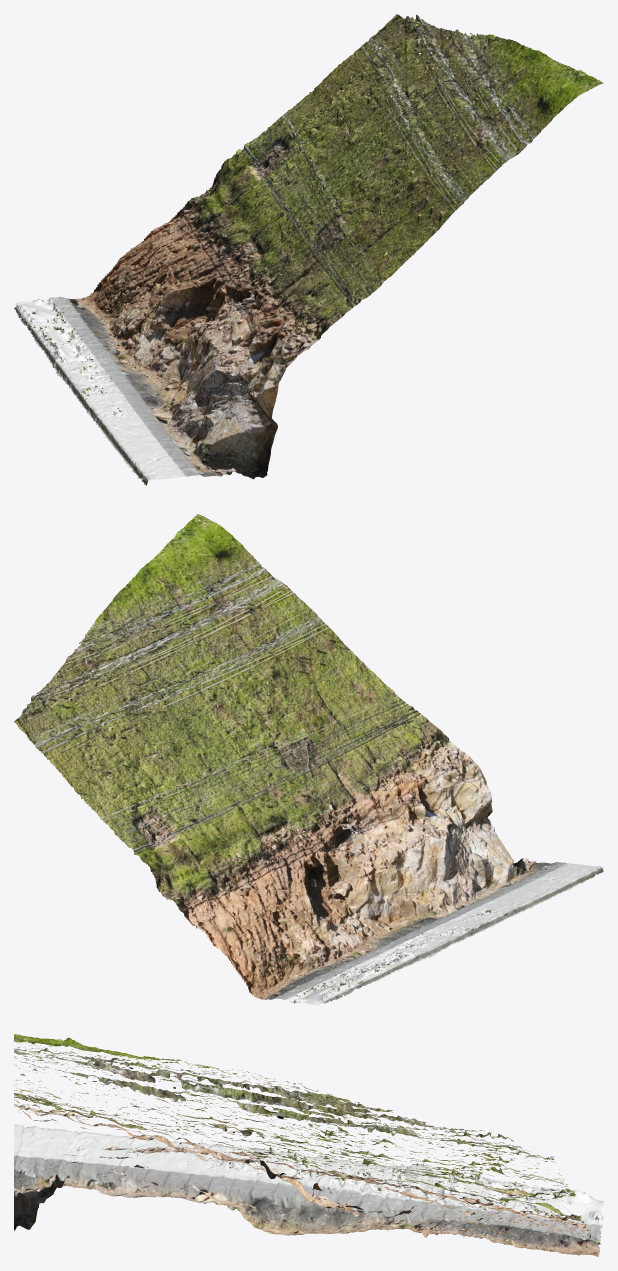
3 views of the same model, one above another, from view 1: azimuth 30°, elevation 25°; view 2: azimuth 150°, elevation 25°; view 3: azimuth 270°, elevation 25° (orthographic). The views are drawn at different scales.
Size of the model in its own units: 13.82 by 9.03 by 11.93.
3 materials, 3 textured.
